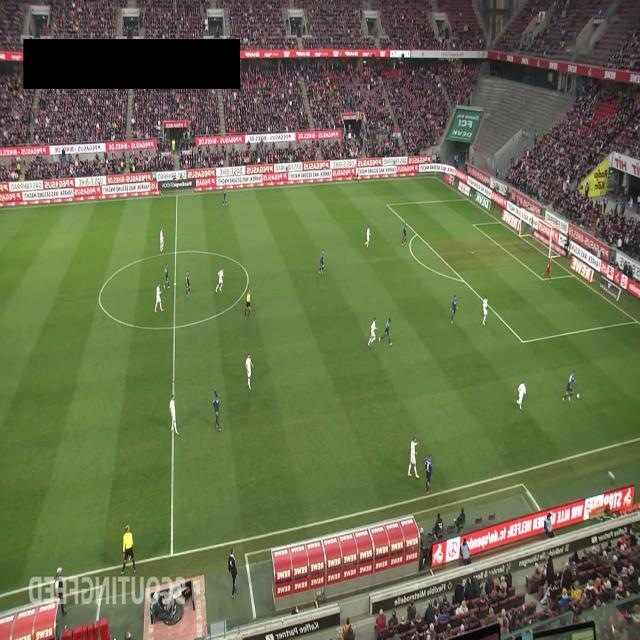ball: (577, 393, 580, 399)
goalkeeper: (542, 259, 552, 285)
player: (407, 436, 420, 478), (562, 369, 576, 403), (169, 394, 180, 436), (379, 317, 393, 346), (245, 353, 255, 390), (515, 379, 526, 410), (425, 453, 433, 494), (213, 390, 221, 431), (368, 316, 378, 348), (154, 282, 164, 312), (450, 294, 458, 325), (216, 267, 224, 293), (482, 296, 488, 325), (164, 262, 170, 288), (401, 223, 407, 246), (185, 270, 190, 296), (319, 249, 324, 274), (365, 225, 370, 248), (222, 188, 228, 206), (160, 228, 164, 252)
referee: (121, 524, 137, 574), (245, 288, 251, 318), (356, 167, 361, 184)
